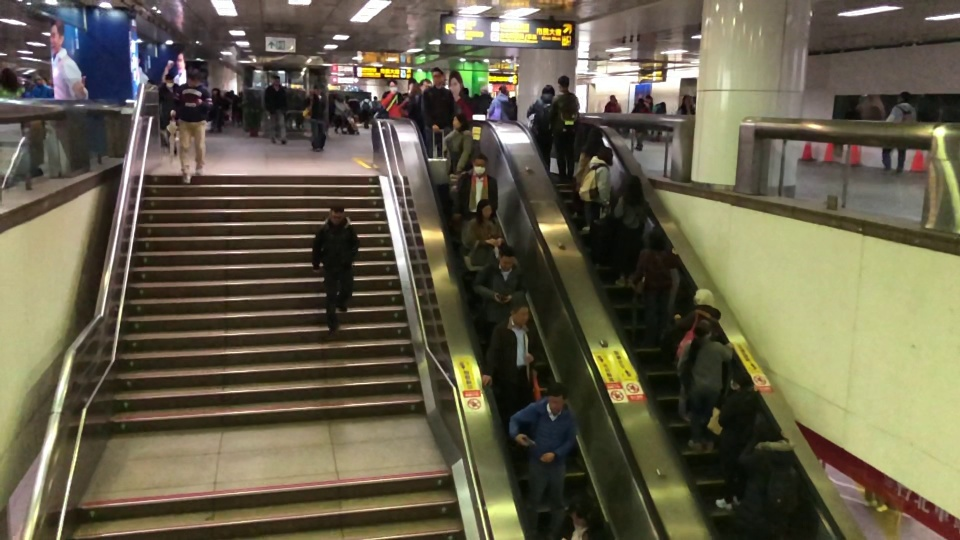person_head: (570, 493, 593, 525), (546, 383, 569, 412), (510, 295, 529, 324), (753, 421, 777, 441), (497, 245, 515, 270), (626, 175, 643, 198), (728, 372, 751, 389), (692, 319, 713, 337), (694, 287, 714, 305), (470, 155, 488, 174), (646, 230, 665, 248), (327, 202, 344, 221), (185, 68, 201, 85), (478, 199, 493, 217), (587, 128, 603, 144), (599, 146, 613, 164), (431, 67, 444, 86), (452, 111, 466, 127), (2, 67, 17, 81), (557, 75, 569, 90), (897, 90, 912, 102), (540, 83, 553, 96), (388, 80, 399, 92), (420, 79, 431, 91), (165, 75, 175, 87), (33, 74, 44, 83), (458, 87, 468, 96), (683, 94, 692, 104), (498, 84, 506, 95), (272, 75, 279, 86), (313, 84, 320, 94), (480, 86, 489, 93), (661, 101, 666, 109), (610, 95, 615, 101), (638, 98, 642, 104)
person_vbox: (508, 383, 577, 540), (676, 319, 736, 453), (311, 201, 361, 337), (673, 287, 722, 423), (714, 372, 761, 513), (737, 420, 799, 524), (482, 295, 540, 401), (631, 230, 679, 348), (169, 69, 215, 184), (472, 245, 526, 323), (548, 75, 580, 184), (615, 174, 644, 289), (880, 90, 916, 176), (461, 198, 502, 272), (578, 145, 615, 221), (576, 127, 603, 230), (422, 69, 456, 150), (458, 154, 499, 220), (551, 492, 605, 540), (442, 111, 474, 174), (263, 75, 291, 144), (526, 83, 553, 148), (304, 83, 328, 153), (158, 76, 178, 127), (631, 99, 651, 150), (380, 80, 404, 118), (487, 83, 510, 120), (411, 79, 430, 122), (24, 73, 53, 98), (0, 67, 24, 97), (651, 100, 666, 142), (457, 87, 474, 119), (676, 94, 696, 116), (605, 95, 621, 114), (478, 86, 489, 112)
